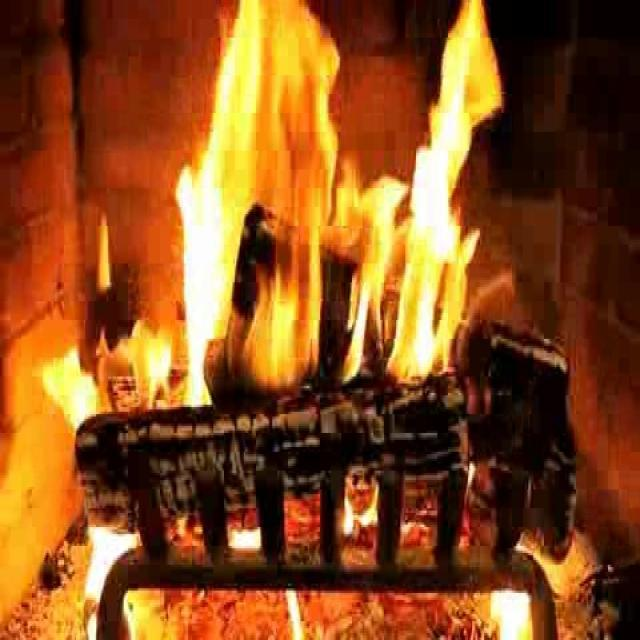Fire: (174, 21, 496, 372)
